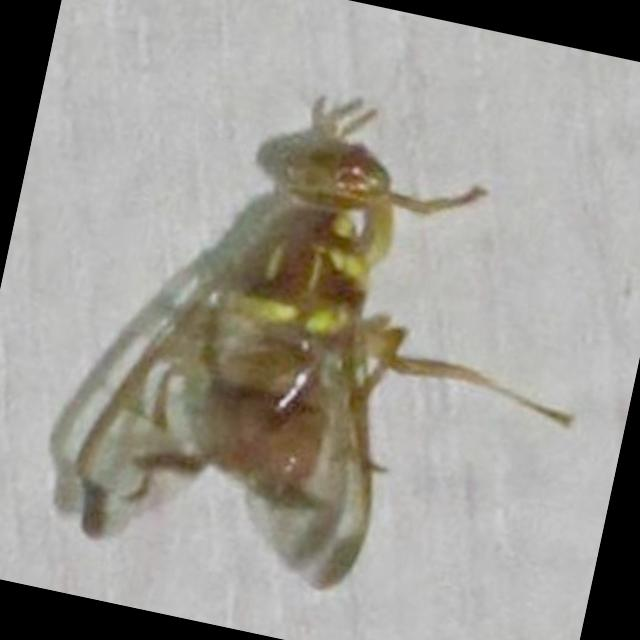melon fly: (35, 55, 640, 638)
